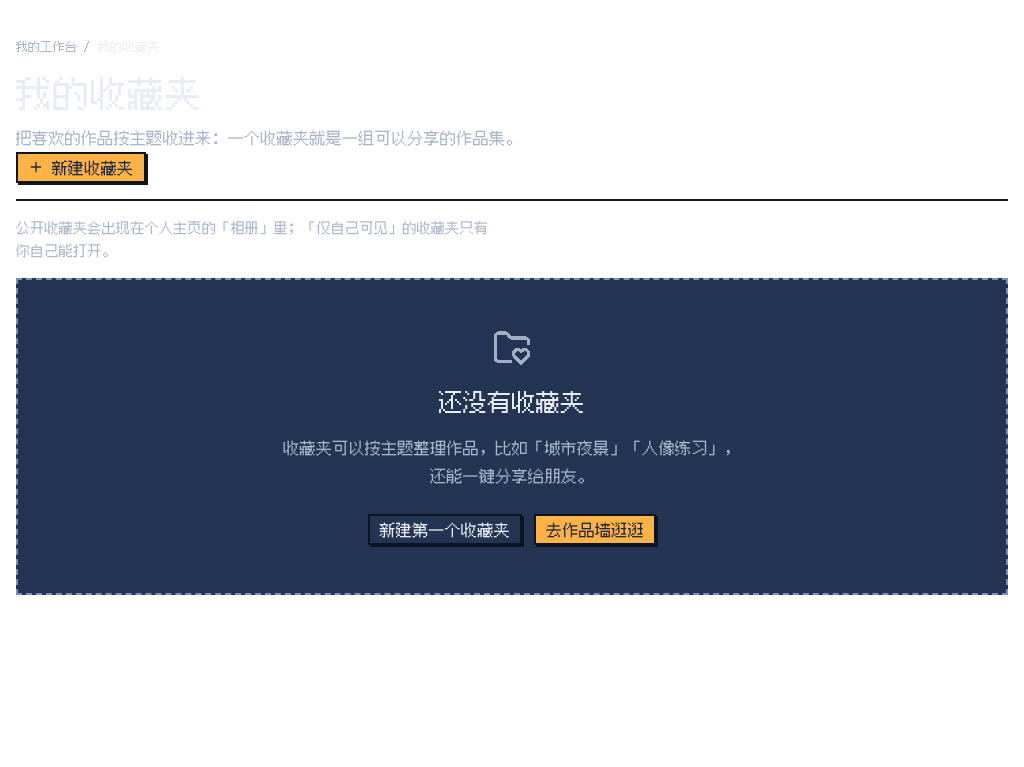
CollectionsPage › 一个收藏夹都没有时：展示空态，点新建后出现表单且默认「仅自己可见」
Check: the heading "还没有收藏夹" is shown, box x1=439 y1=380 x2=585 y2=422
Click the button "新建收藏夹": (81, 167) x1=16 y1=152 x2=146 y2=183
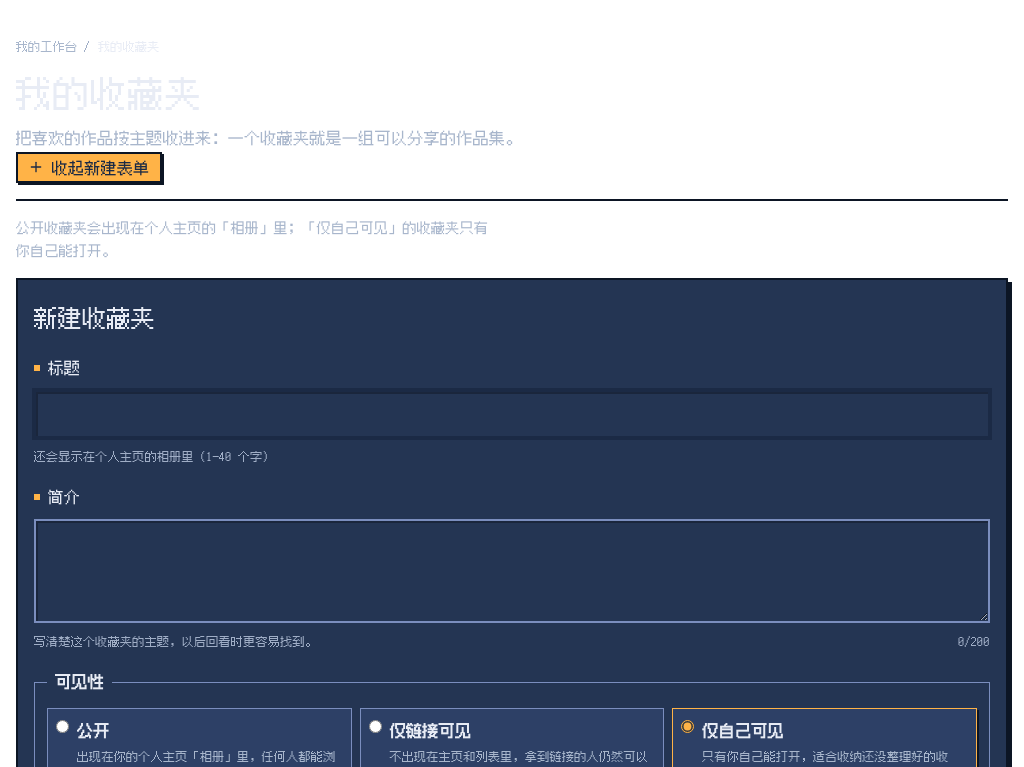
Check: the text box labelled "简介" is shown, box x1=34 y1=519 x2=990 y2=623
Check: the radio button labelled "仅自己可见 只有你自己能打开，适合收纳还没整理好的收藏。" is checked, box x1=681 y1=720 x2=694 y2=733
Check: the radio button labelled "公开 出现在你的个人主页「相册」里，任何人都能浏览。" is not checked, box x1=56 y1=720 x2=69 y2=733
